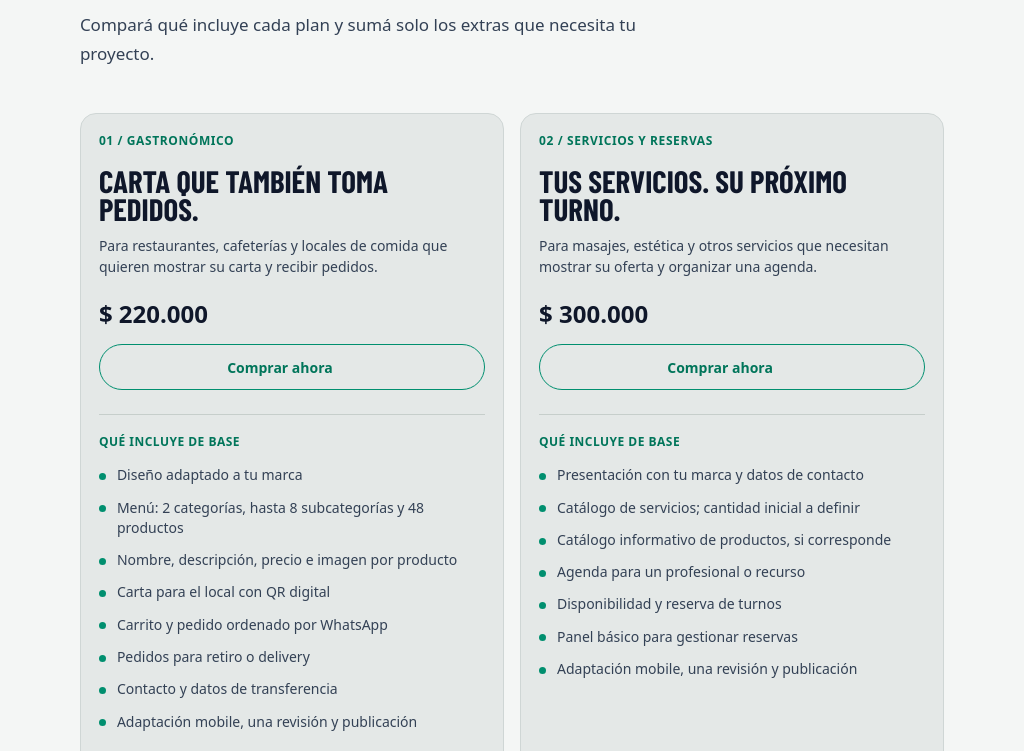
Test: landing › opens the correct options for plan 0
(page scrolled)
Click the button "Comprar ahora" below "$ 220.000" at (292, 367), box [99,344,485,390]
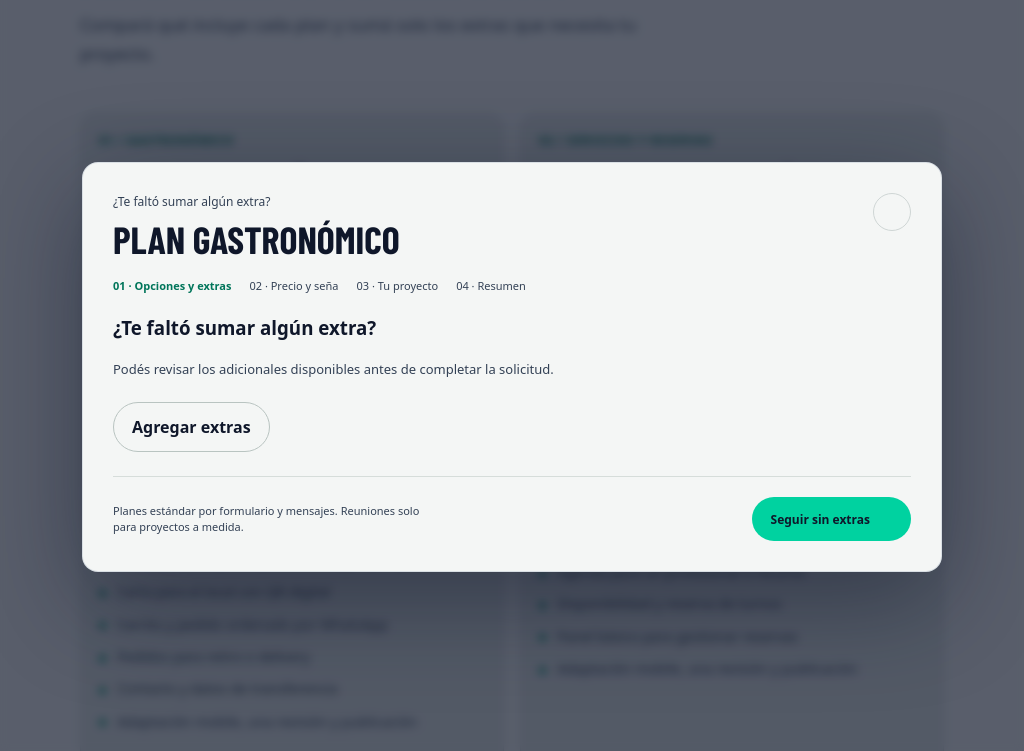
Click the button "Agregar extras" at (191, 427), box [113,402,270,452]
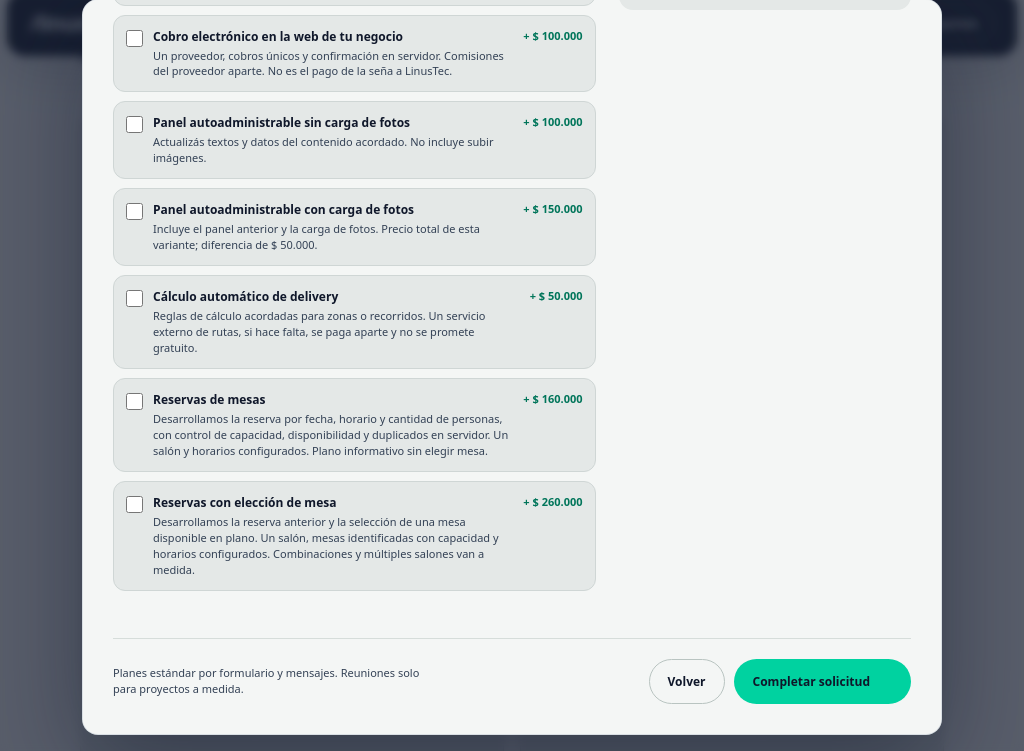
Expected: the checkbox labelled "Reservas de mesas" is shown, [126,393,143,410]
